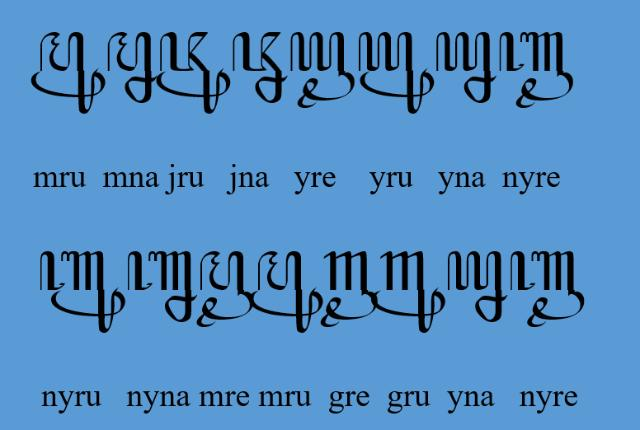gre: (320, 251, 378, 327)
gru: (372, 250, 446, 334)
jn: (232, 31, 288, 104)
jru: (156, 32, 232, 114)
mn: (107, 31, 157, 105)
mre: (196, 250, 254, 328)
mru: (30, 31, 106, 115), (250, 250, 324, 334)
nyn: (126, 251, 198, 323)
nyre: (500, 30, 574, 108), (510, 251, 584, 329)
nyru: (39, 250, 127, 334)
yn: (436, 32, 496, 104), (448, 251, 508, 323)
yre: (290, 32, 354, 108)
yru: (358, 31, 434, 114)
